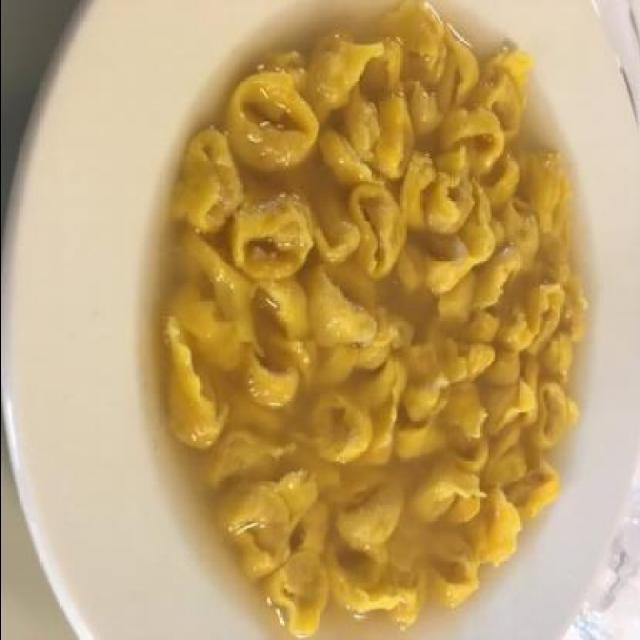Tortellini in broth: (151, 52, 591, 630)
